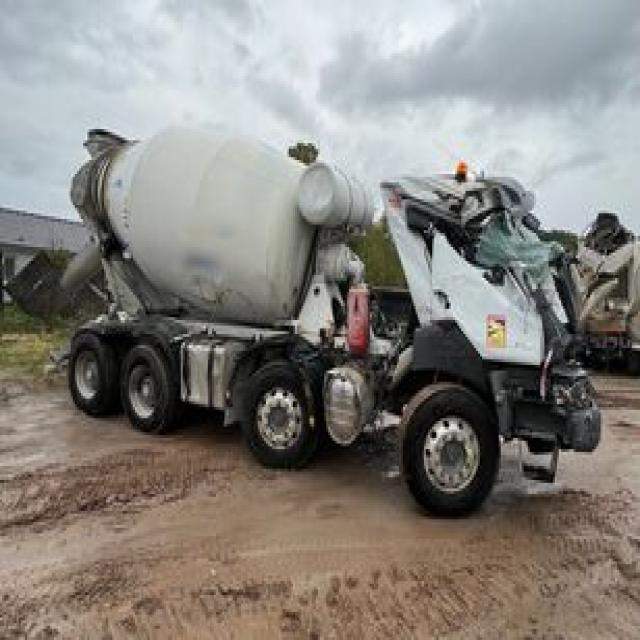accident: (69, 124, 600, 522)
